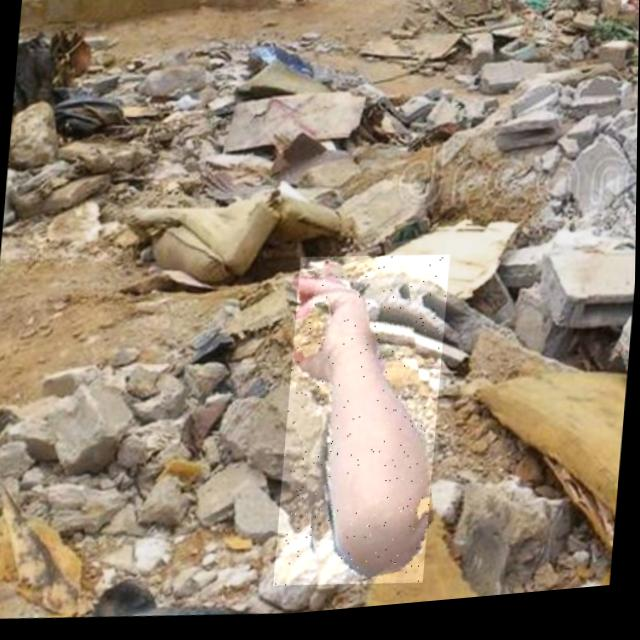Person in Rubble: (275, 252, 451, 601)
